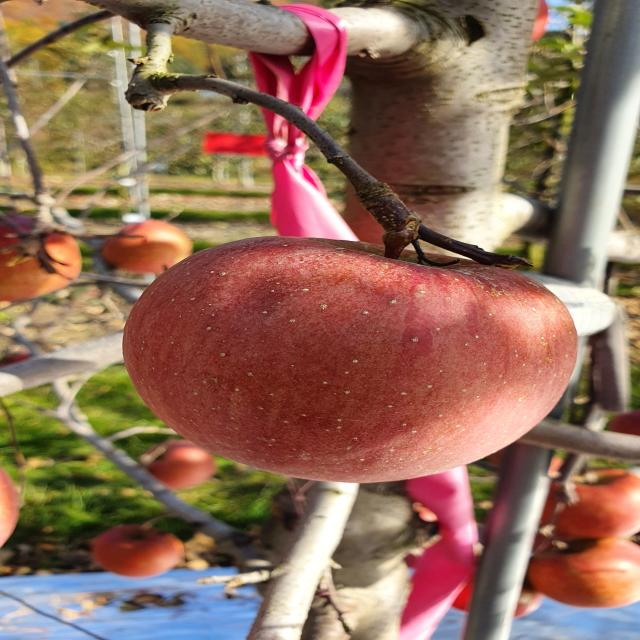fresh: (112, 227, 588, 487)
